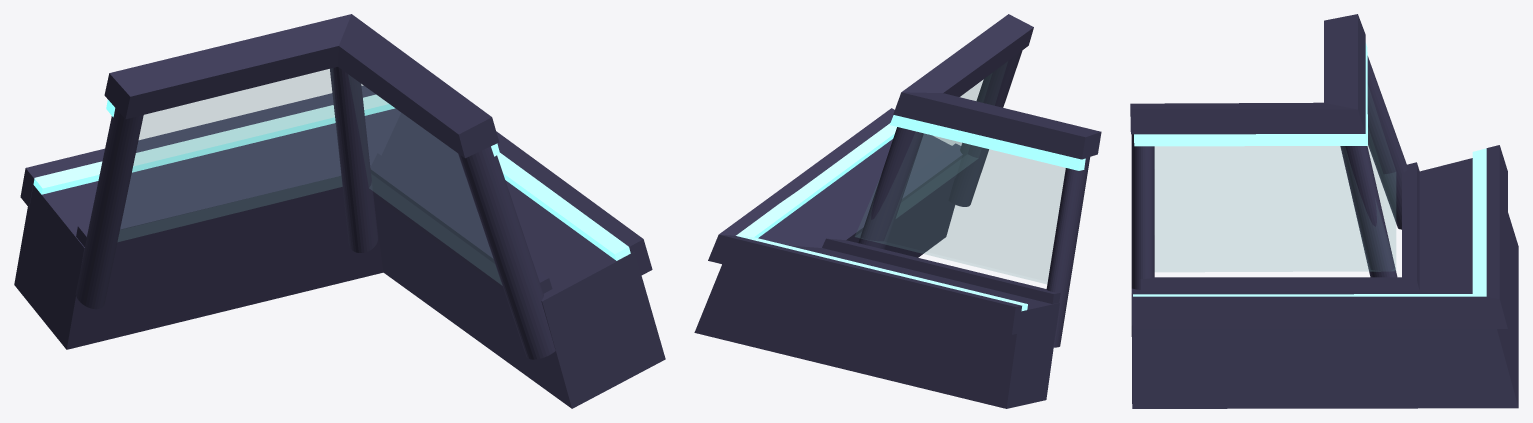
Rendered from Railing_Corner.fbx.
3 renders of one model, left to right at view 1: azimuth 30°, elevation 25°; view 2: azimuth 150°, elevation 25°; view 3: azimuth 270°, elevation 25°, orthographic. The views are drawn at different scales.
Parts seen in each view (by area): view 1: Cube.011, Cube.016, Cube.017, Cube.013, Cube.012, Cylinder.001, Cube.015, Cylinder.015, Cylinder.017; view 2: Cube.011, Cube.016, Cube.015, Cube.017, Cube.013, Cube.012, Cylinder.017, Cylinder.015, Cylinder.001, Cube.018; view 3: Cube.011, Cube.016, Cube.015, Cube.017, Cube.013, Cylinder.017, Cylinder.001, Cube.012, Cylinder.015, Cube.018.
Part boxes in pixels (x1,y1,x2,y2): Cube.011: (14, 108, 665, 408); Cube.016: (118, 69, 501, 284); Cube.017: (104, 14, 499, 158); Cube.013: (76, 153, 552, 293); Cube.012: (33, 94, 630, 260); Cylinder.001: (458, 146, 555, 359); Cube.015: (20, 85, 652, 275); Cylinder.015: (75, 108, 143, 309); Cylinder.017: (330, 67, 377, 252); Cube.011: (694, 133, 1059, 408); Cube.016: (855, 73, 1065, 283); Cube.015: (708, 108, 1021, 334); Cube.017: (893, 14, 1101, 159); Cube.013: (822, 143, 1060, 303); Cube.012: (736, 123, 1027, 311); Cylinder.017: (858, 127, 923, 249); Cylinder.015: (1046, 157, 1090, 347); Cylinder.001: (948, 50, 1022, 206); Cube.018: (890, 115, 1085, 170); Cube.011: (1131, 158, 1518, 408); Cube.016: (1154, 127, 1395, 271); Cube.015: (1132, 145, 1507, 328); Cube.017: (1130, 14, 1365, 134); Cube.013: (1140, 162, 1419, 291); Cylinder.017: (1340, 146, 1397, 277); Cylinder.001: (1131, 134, 1154, 336); Cube.012: (1133, 148, 1486, 296); Cylinder.015: (1367, 56, 1407, 229); Cube.018: (1134, 43, 1367, 146).
Bounding box in the file's own units: 306 × 219 × 305.
